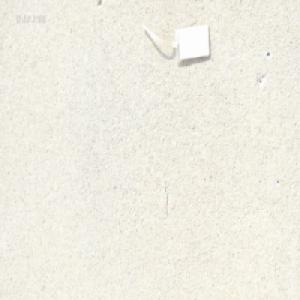LuggageTag: (139, 19, 212, 67)
